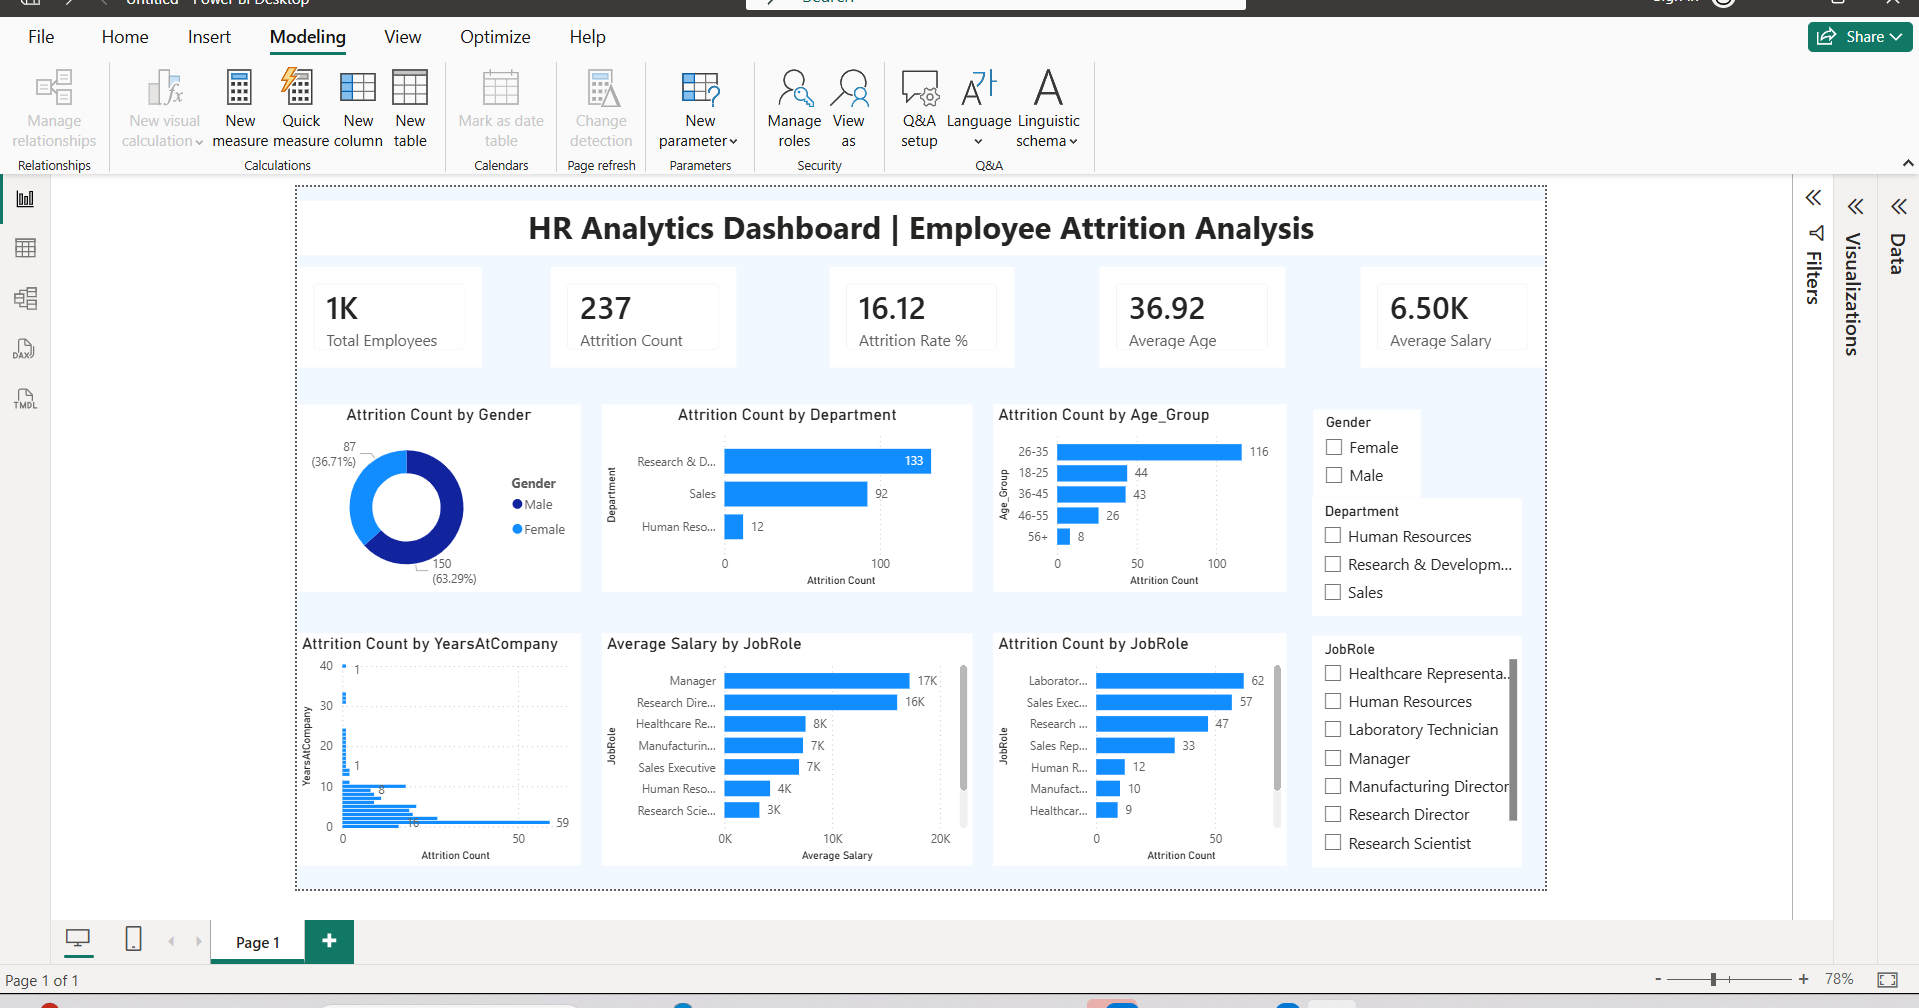

This screenshot's page, from the dashboard's own definition file:
{"tool":"powerbi","page":{"name":"Page 1","canvas":[1280,720],"ordinal":0},"visuals":[{"type":"cardVisual","fields":{"Data":["WA_Fn-UseC_-HR-Employee-Attrition.Total Employees"]},"box":[0,82.3,189.4,102.9],"z":0},{"type":"cardVisual","fields":{"Data":["WA_Fn-UseC_-HR-Employee-Attrition.Attrition Count"]},"box":[260.7,82.3,190.7,102.9],"z":1000},{"type":"cardVisual","fields":{"Data":["WA_Fn-UseC_-HR-Employee-Attrition.Attrition Rate"]},"box":[546.1,82.3,189.4,102.9],"z":2000},{"type":"cardVisual","fields":{"Data":["WA_Fn-UseC_-HR-Employee-Attrition.Average Salary"]},"box":[1090.9,82.3,189.4,102.9],"z":3000},{"type":"cardVisual","fields":{"Data":["WA_Fn-UseC_-HR-Employee-Attrition.Average Age"]},"box":[823.3,82.3,190.7,102.9],"z":4000},{"type":"clusteredBarChart","fields":{"Category":["WA_Fn-UseC_-HR-Employee-Attrition.Department"],"Y":["WA_Fn-UseC_-HR-Employee-Attrition.Attrition Count"]},"box":[312.9,223.7,380.1,192.1],"z":5000},{"type":"donutChart","fields":{"Category":["WA_Fn-UseC_-HR-Employee-Attrition.Gender"],"Y":["WA_Fn-UseC_-HR-Employee-Attrition.Attrition Count"]},"box":[0,223.7,290.9,192.1],"z":6000},{"type":"clusteredBarChart","fields":{"Category":["WA_Fn-UseC_-HR-Employee-Attrition.JobRole"],"Y":["WA_Fn-UseC_-HR-Employee-Attrition.Attrition Count"]},"box":[713.6,458.3,300.5,238.8],"z":7000},{"type":"clusteredBarChart","fields":{"Category":["WA_Fn-UseC_-HR-Employee-Attrition.JobRole"],"Y":["WA_Fn-UseC_-HR-Employee-Attrition.Average Salary"]},"box":[312.9,458.3,380.1,238.8],"z":8000},{"type":"clusteredBarChart","fields":{"Category":["WA_Fn-UseC_-HR-Employee-Attrition.YearsAtCompany"],"Y":["WA_Fn-UseC_-HR-Employee-Attrition.Attrition Count"]},"box":[0,458.3,290.9,238.8],"z":9000},{"type":"clusteredBarChart","fields":{"Category":["WA_Fn-UseC_-HR-Employee-Attrition.Age_Group"],"Y":["WA_Fn-UseC_-HR-Employee-Attrition.Attrition Count"]},"box":[713.6,223.7,300.5,192.1],"z":10000},{"type":"slicer","fields":{"Values":["WA_Fn-UseC_-HR-Employee-Attrition.Department"]},"box":[1041.5,319.7,215.4,120.8],"z":11000},{"type":"slicer","fields":{"Values":["WA_Fn-UseC_-HR-Employee-Attrition.Gender"]},"box":[1041.7,228.3,110,90],"z":12000},{"type":"slicer","fields":{"Values":["WA_Fn-UseC_-HR-Employee-Attrition.JobRole"]},"box":[1041.5,459.7,215.4,237.4],"z":13000},{"type":"textbox","box":[0,13.7,1280.3,56.3],"z":14000}]}

Visuals, with their boxes on the page's 1280x720 design canvas (x1, y1, x2, y2). These are canvas units, not pixel positions in the 1919x1008 screenshot, which may show the page scaled, cropped or inside an application window:
cardVisual - WA_Fn-UseC_-HR-Employee-Attrition.Total Employees: 0/82/189/185
cardVisual - WA_Fn-UseC_-HR-Employee-Attrition.Attrition Count: 261/82/451/185
cardVisual - WA_Fn-UseC_-HR-Employee-Attrition.Attrition Rate: 546/82/736/185
cardVisual - WA_Fn-UseC_-HR-Employee-Attrition.Average Salary: 1091/82/1280/185
cardVisual - WA_Fn-UseC_-HR-Employee-Attrition.Average Age: 823/82/1014/185
clusteredBarChart - WA_Fn-UseC_-HR-Employee-Attrition.Department x WA_Fn-UseC_-HR-Employee-Attrition.Attrition Count: 313/224/693/416
donutChart - WA_Fn-UseC_-HR-Employee-Attrition.Gender x WA_Fn-UseC_-HR-Employee-Attrition.Attrition Count: 0/224/291/416
clusteredBarChart - WA_Fn-UseC_-HR-Employee-Attrition.JobRole x WA_Fn-UseC_-HR-Employee-Attrition.Attrition Count: 714/458/1014/697
clusteredBarChart - WA_Fn-UseC_-HR-Employee-Attrition.JobRole x WA_Fn-UseC_-HR-Employee-Attrition.Average Salary: 313/458/693/697
clusteredBarChart - WA_Fn-UseC_-HR-Employee-Attrition.YearsAtCompany x WA_Fn-UseC_-HR-Employee-Attrition.Attrition Count: 0/458/291/697
clusteredBarChart - WA_Fn-UseC_-HR-Employee-Attrition.Age_Group x WA_Fn-UseC_-HR-Employee-Attrition.Attrition Count: 714/224/1014/416
slicer - WA_Fn-UseC_-HR-Employee-Attrition.Department: 1042/320/1257/440
slicer - WA_Fn-UseC_-HR-Employee-Attrition.Gender: 1042/228/1152/318
slicer - WA_Fn-UseC_-HR-Employee-Attrition.JobRole: 1042/460/1257/697
textbox: 0/14/1280/70
